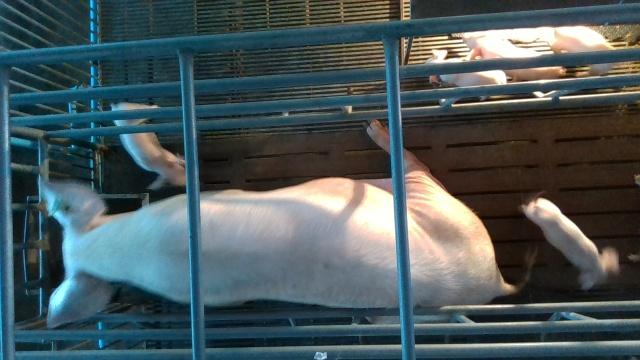piglet: (521, 197, 620, 290), (111, 102, 188, 189), (463, 30, 565, 83), (426, 50, 506, 100), (549, 27, 616, 75)
sow-sit: (39, 117, 534, 328)
